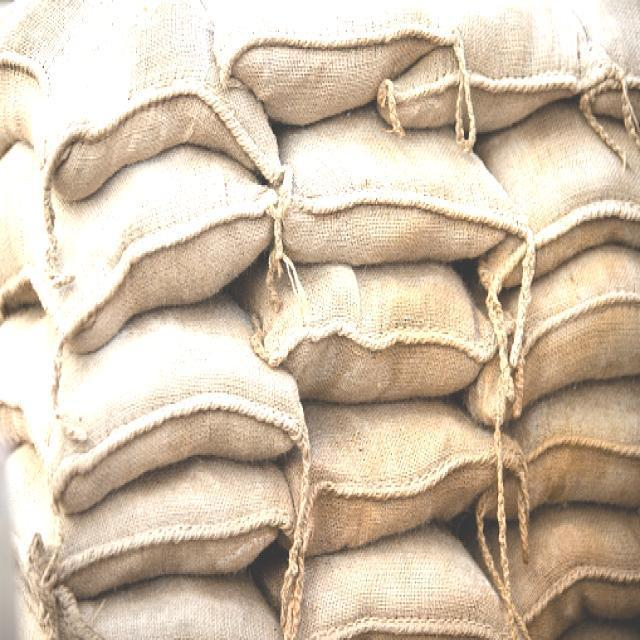gunny_bag: (1, 298, 306, 508), (0, 0, 286, 205), (16, 147, 281, 349), (286, 392, 520, 582), (272, 111, 530, 278), (258, 253, 498, 421), (44, 447, 293, 607), (276, 510, 543, 640), (469, 105, 640, 302), (376, 0, 620, 137), (214, 0, 458, 126), (478, 245, 640, 425), (491, 366, 639, 524), (503, 487, 640, 640)
